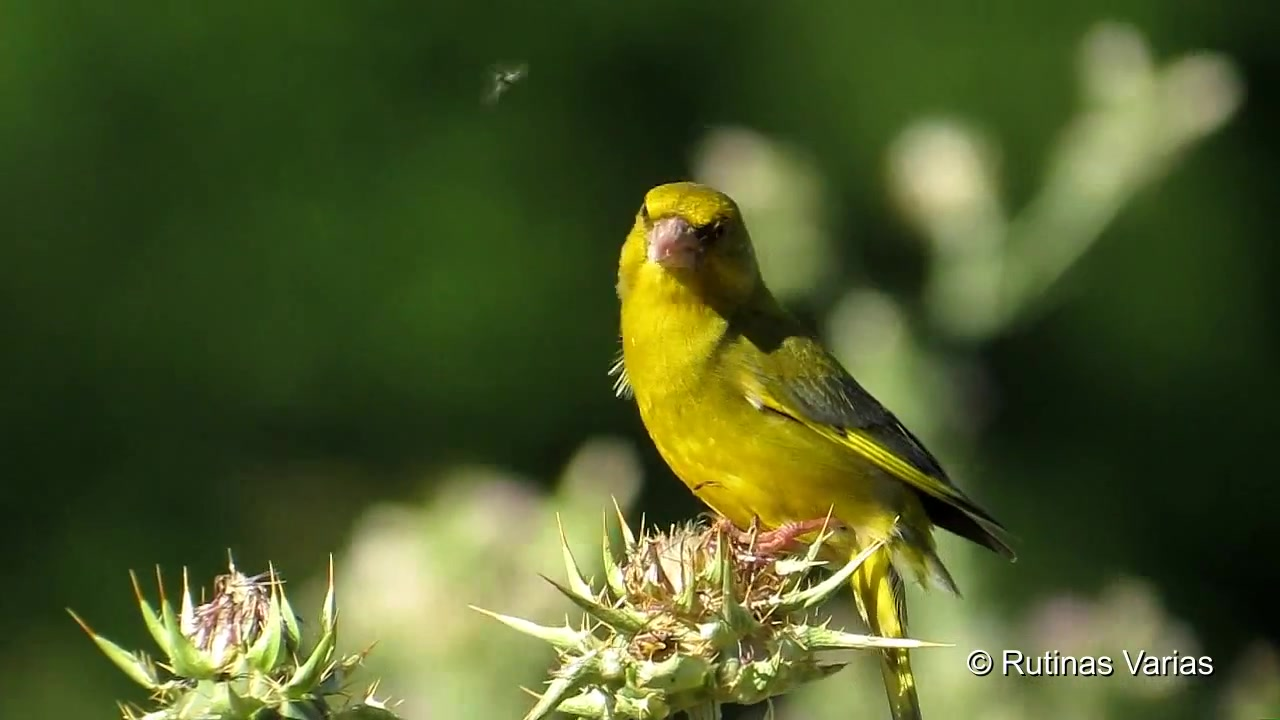bird: (609, 183, 1016, 720)
